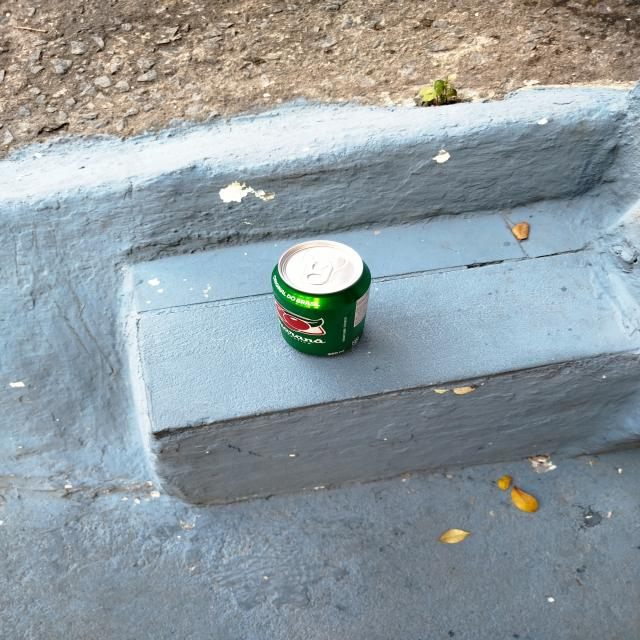Guarana: (270, 239, 374, 356)
